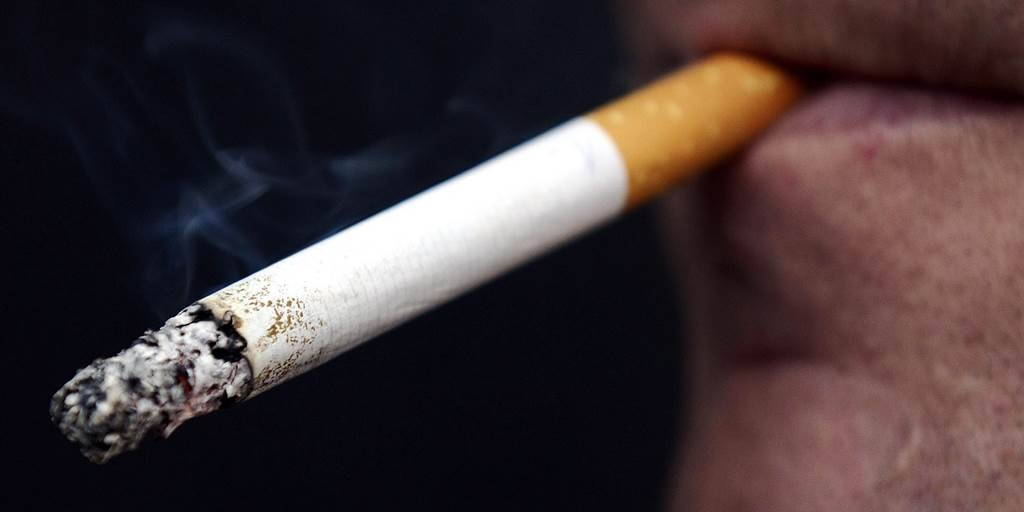sigaretta: (53, 53, 801, 444)
